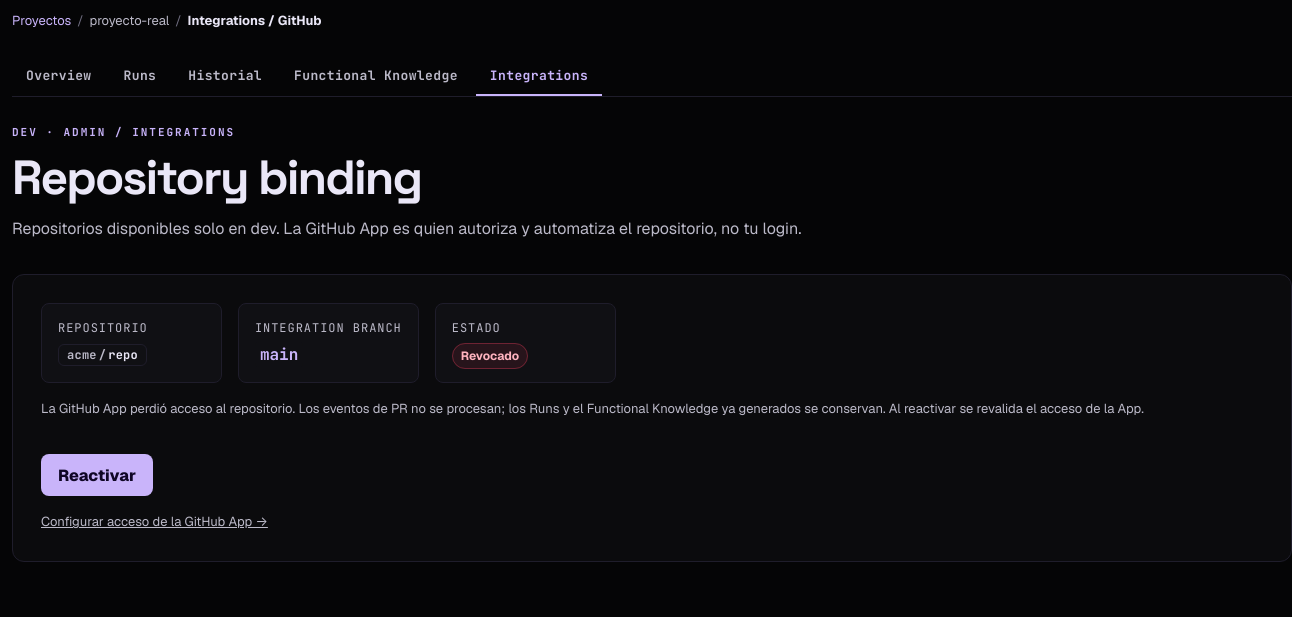
Test: en live Reactivar un REVOKED sin acceso: 403 muestra el error con correlationId, el estado no cambia y se ofrece la configureUrl
Click the button "Reactivar" at point(97, 475), box left=41, top=454, right=153, bottom=496
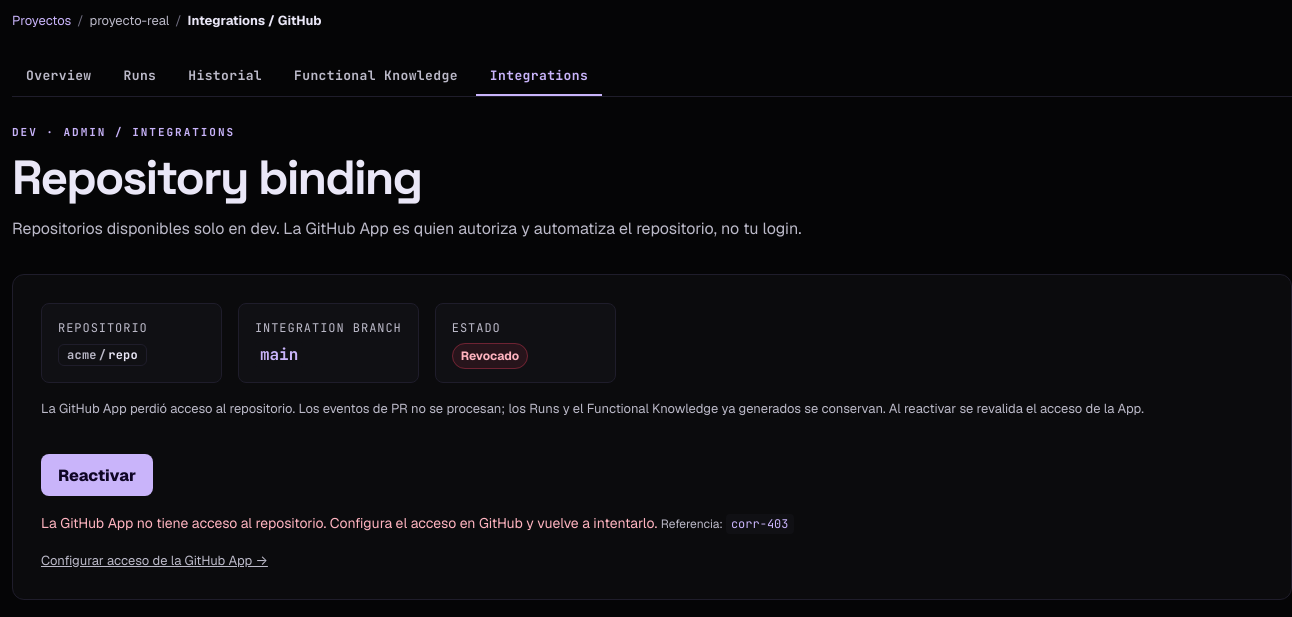
Expected: the message does not show "mensaje crudo de Core", left=41, top=512, right=794, bottom=534
Expected: the message shows "La GitHub App no tiene acceso al repositorio", left=41, top=514, right=657, bottom=532
Expected: the message shows "corr-403", left=731, top=516, right=788, bottom=532
